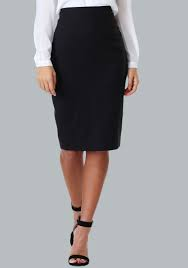F_tailored skirt: (49, 3, 133, 160)
